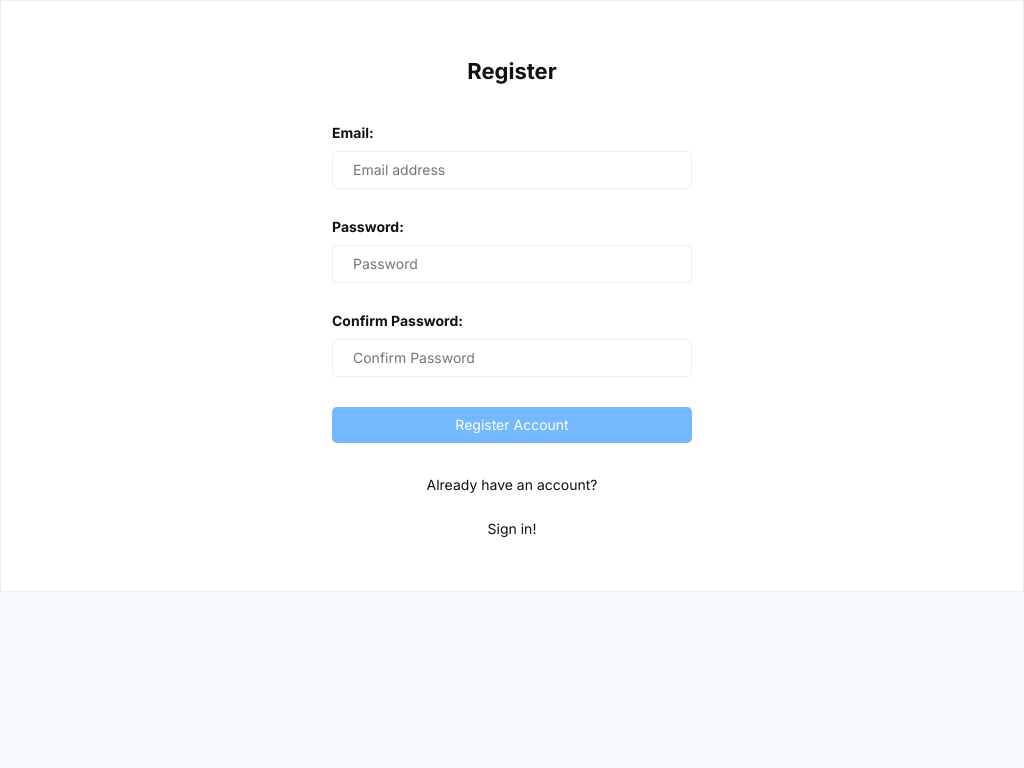
Test: AuthForm - Register variant › Shows email error warning if submitted in invalid state
Type "testing123" into the password field labelled "Password:" at (512, 264), box top-left (332, 245), bottom-right (692, 283)
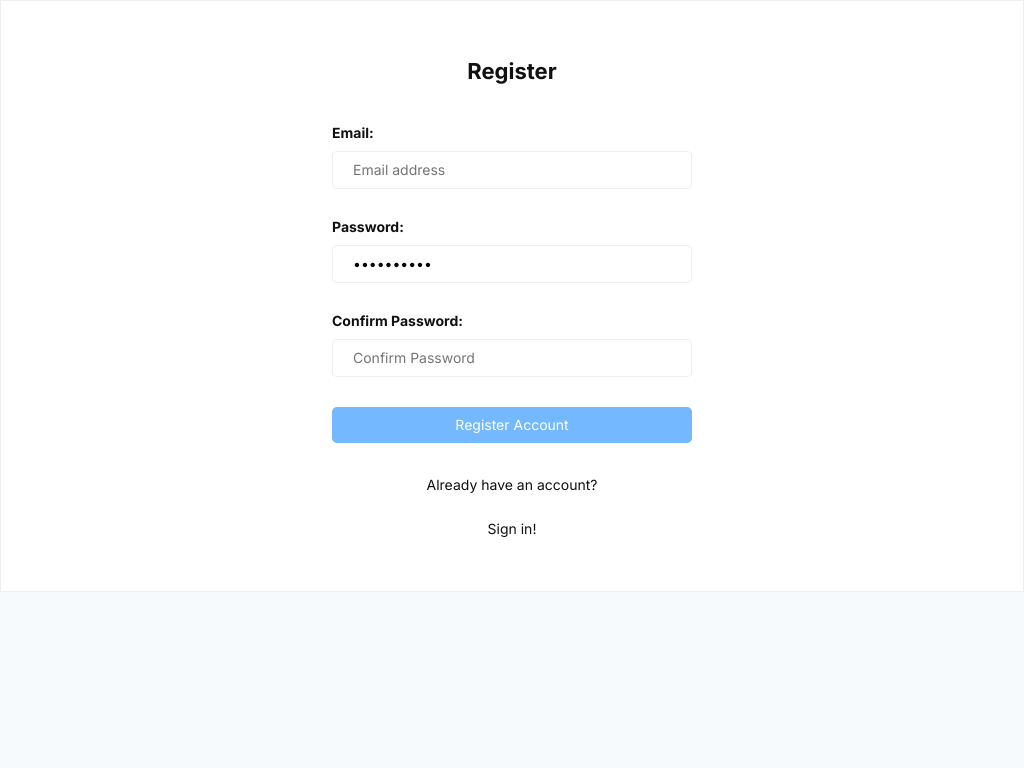
Type "testing123" into the password field labelled "Confirm Password:" at (512, 358), box top-left (332, 339), bottom-right (692, 377)
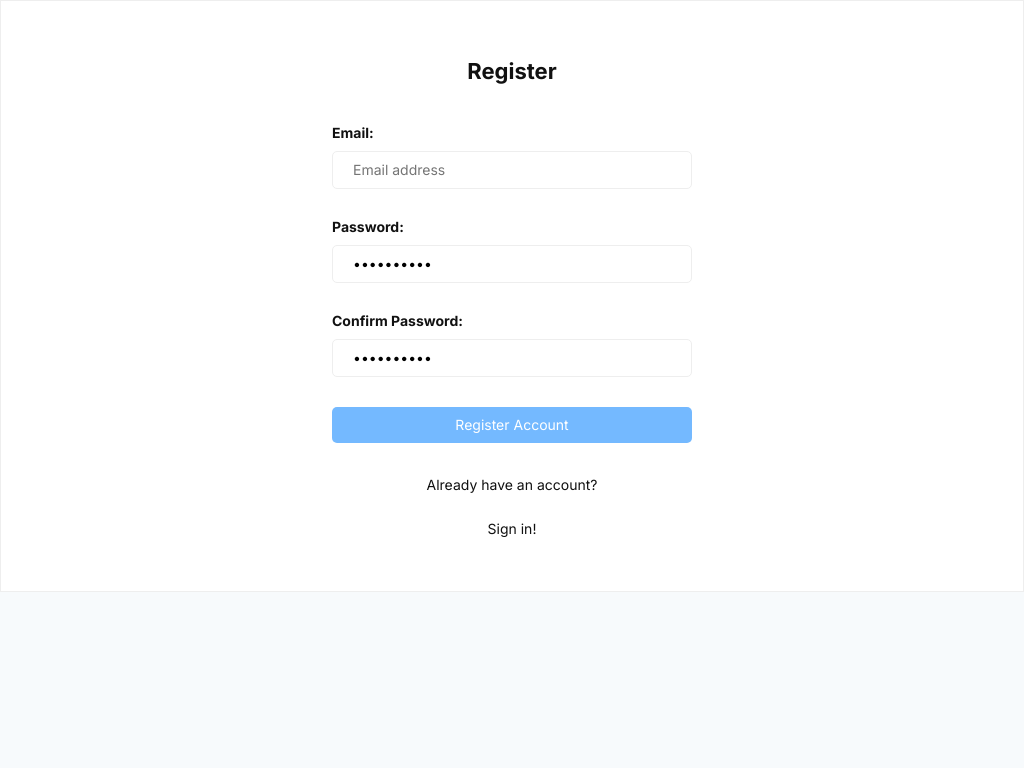
Click the button "Register Account" at (512, 425), box top-left (332, 407), bottom-right (692, 443)
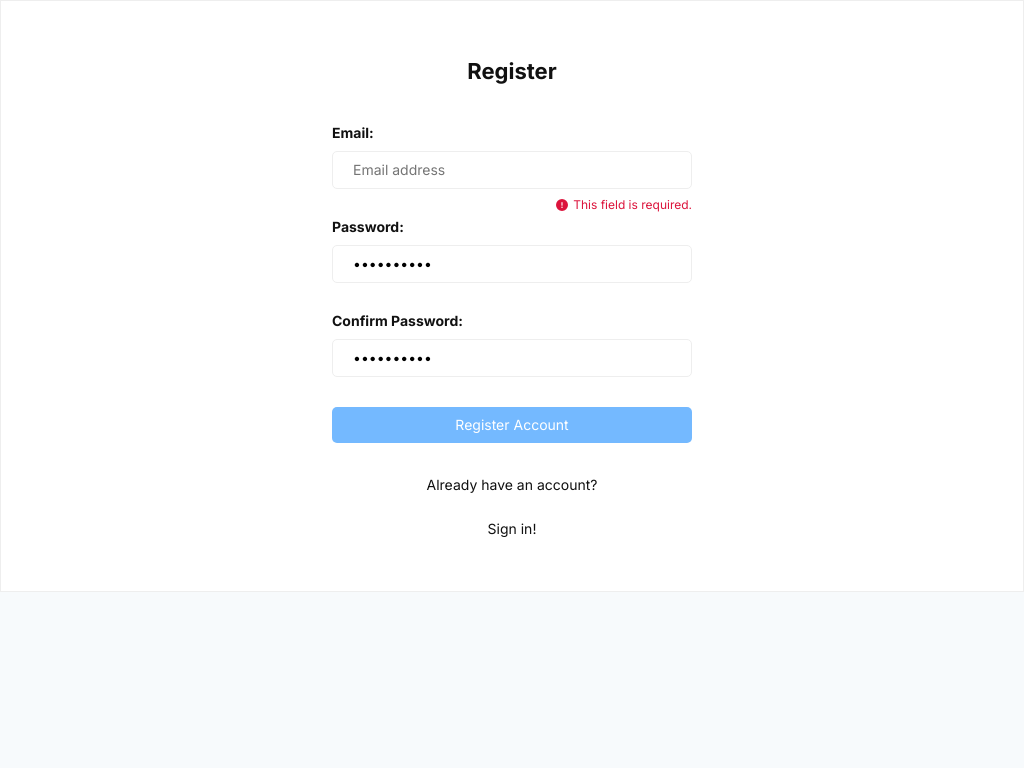
Result: the text "This field is required." is shown at top-left (556, 198), bottom-right (692, 212)
